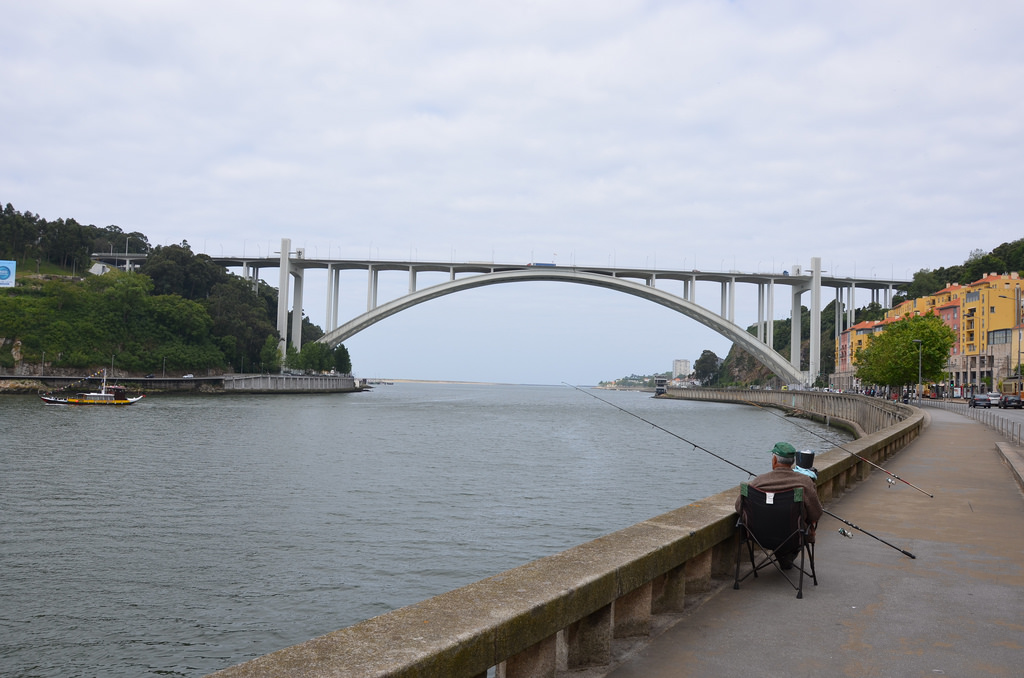arrabida: (92, 237, 928, 393)
